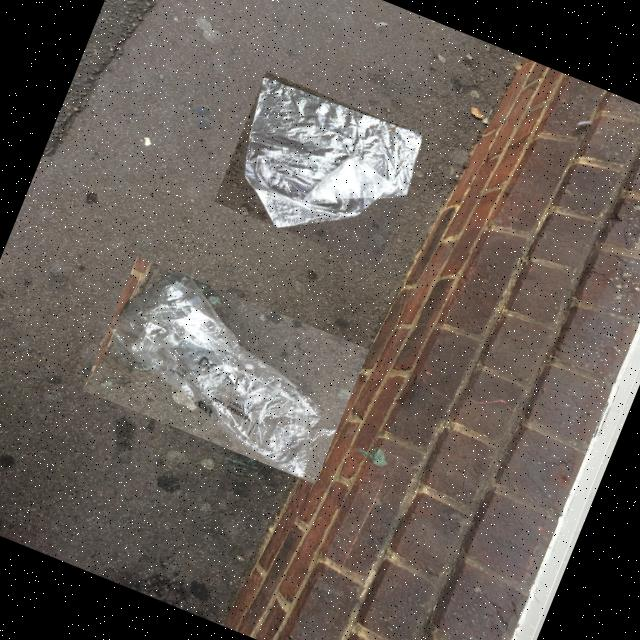Plastic film: (109, 278, 336, 477), (244, 78, 422, 228)
